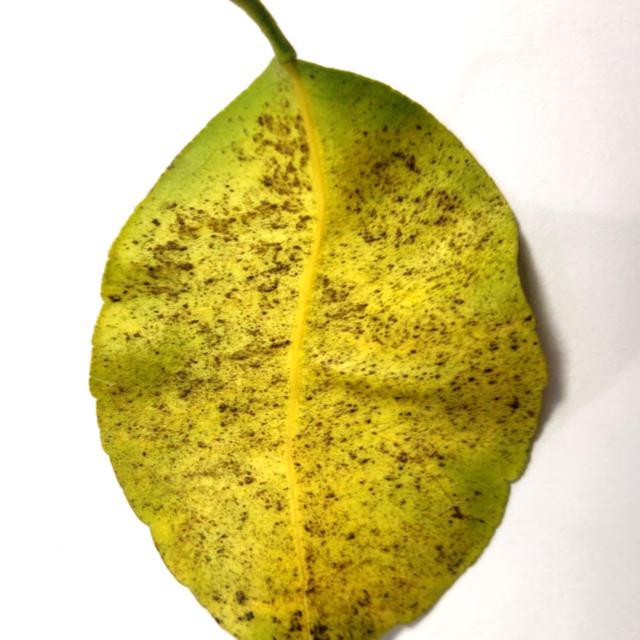melanose: (91, 0, 546, 640)
